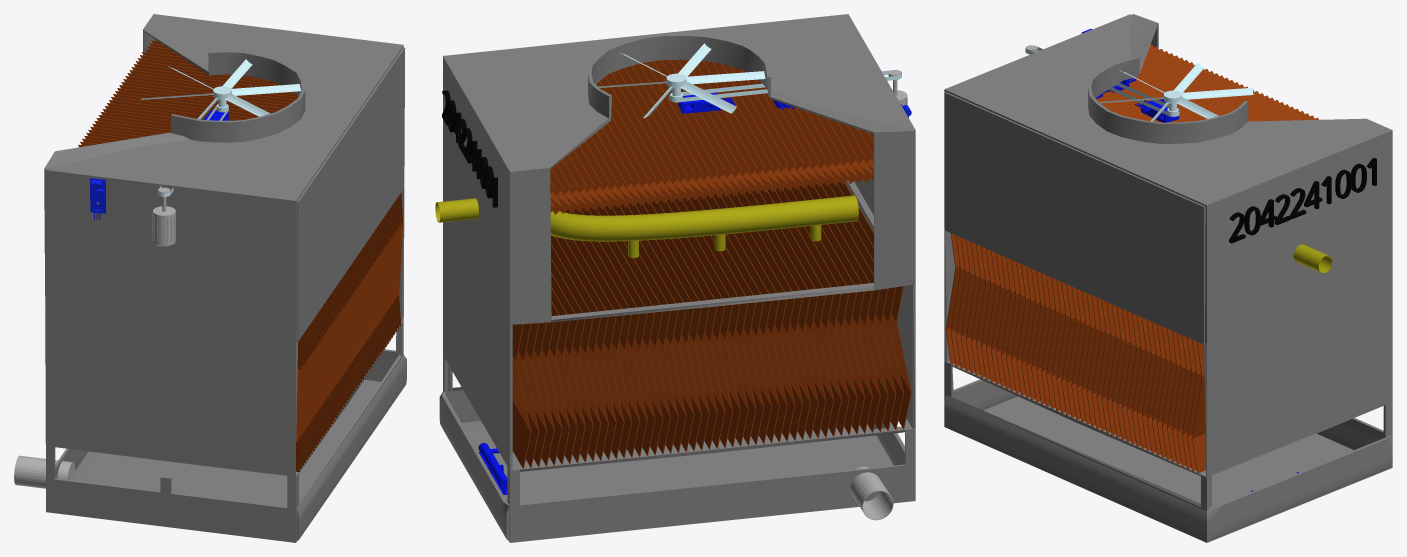
File: cooling_tower.glb
3 views of the same model, side by side, from view 1: azimuth 30°, elevation 25°; view 2: azimuth 150°, elevation 25°; view 3: azimuth 270°, elevation 25° (orthographic). The views are drawn at different scales.
Visible parts, largest first — view 1: Plane.001_0, Plane_0, Cylinder.001_0, Plane.012, Vibration_Sensor; view 2: Plane_0, Plane.001_0, Cylinder_0, Plane.012, 3D Text - 2, Cylinder.001_0, Circle.001_0, winpower_ocs_3f_3.0_model; view 3: Plane.001_0, Plane_0, 3D Text - 2, Plane.012, Cylinder_0, Circle.001_0.
Part boxes in pixels (x1,y1,x2,y2): Plane.001_0: [44, 14, 406, 542]; Plane_0: [78, 40, 402, 472]; Cylinder.001_0: [14, 187, 175, 488]; Plane.012: [141, 59, 301, 119]; Vibration_Sensor: [90, 178, 106, 219]; Plane_0: [512, 59, 911, 468]; Plane.001_0: [439, 14, 915, 542]; Cylinder_0: [435, 195, 858, 258]; Plane.012: [598, 43, 765, 118]; 3D Text - 2: [442, 90, 497, 207]; Cylinder.001_0: [850, 70, 907, 520]; Circle.001_0: [669, 70, 901, 102]; winpower_ocs_3f_3.0_model: [478, 443, 507, 494]; Plane.001_0: [944, 14, 1392, 542]; Plane_0: [945, 44, 1318, 473]; 3D Text - 2: [1229, 157, 1376, 243]; Plane.012: [1099, 63, 1253, 121]; Cylinder_0: [1293, 244, 1332, 273]; Circle.001_0: [1025, 46, 1179, 116].
Bounding box in the file's own units: 103 × 87.56 × 99.55.
